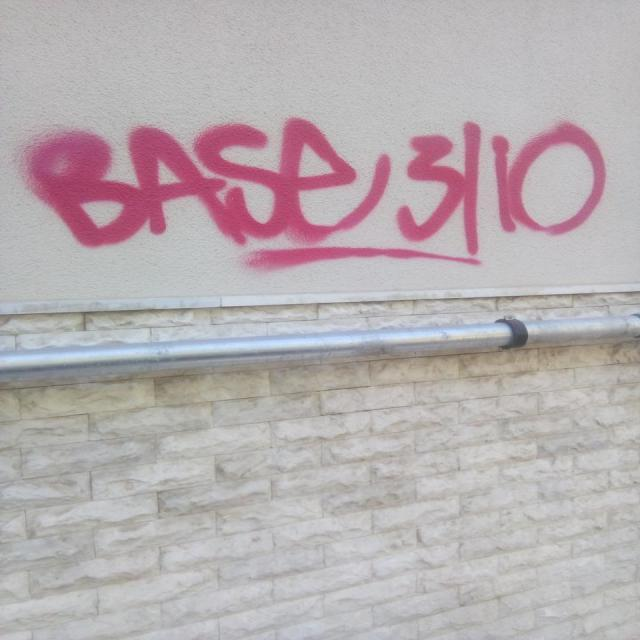nonspitting: (20, 117, 608, 275)
